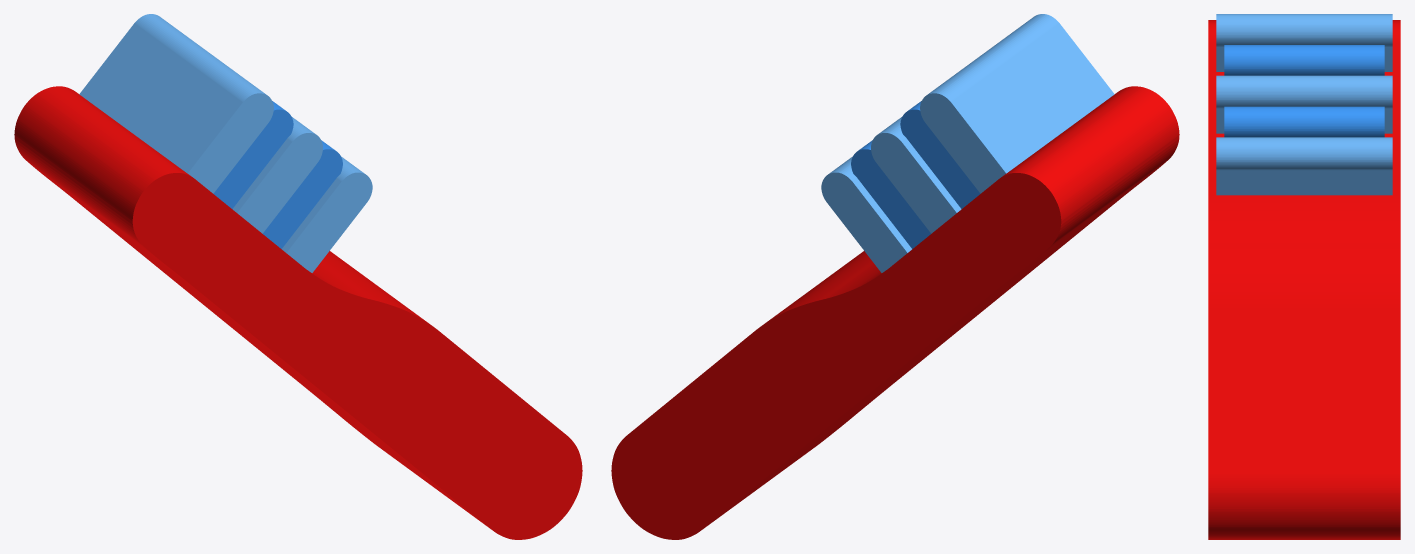
Rendered from U+1FAA5.obj.
3 renders of one model, left to right at view 1: azimuth 30°, elevation 25°; view 2: azimuth 150°, elevation 25°; view 3: azimuth 270°, elevation 25°, orthographic. The views are drawn at different scales.
Visible parts, largest first — view 1: U+1FAA5_layer02_obj00, U+1FAA5_layer01_obj00, U+1FAA5_layer00_obj00; view 2: U+1FAA5_layer02_obj00, U+1FAA5_layer01_obj00, U+1FAA5_layer00_obj00; view 3: U+1FAA5_layer02_obj00, U+1FAA5_layer01_obj00, U+1FAA5_layer00_obj00.
Boxes of the visible parts, bbox=[...] form: U+1FAA5_layer02_obj00: bbox=[14, 86, 582, 539]; U+1FAA5_layer01_obj00: bbox=[79, 14, 372, 272]; U+1FAA5_layer00_obj00: bbox=[213, 101, 342, 248]; U+1FAA5_layer02_obj00: bbox=[611, 86, 1179, 539]; U+1FAA5_layer01_obj00: bbox=[821, 14, 1114, 272]; U+1FAA5_layer00_obj00: bbox=[851, 101, 980, 248]; U+1FAA5_layer02_obj00: bbox=[1208, 20, 1400, 539]; U+1FAA5_layer01_obj00: bbox=[1216, 14, 1392, 195]; U+1FAA5_layer00_obj00: bbox=[1224, 45, 1384, 137].
Size of the model in its own units: 0.5272 by 0.568 by 0.24.
